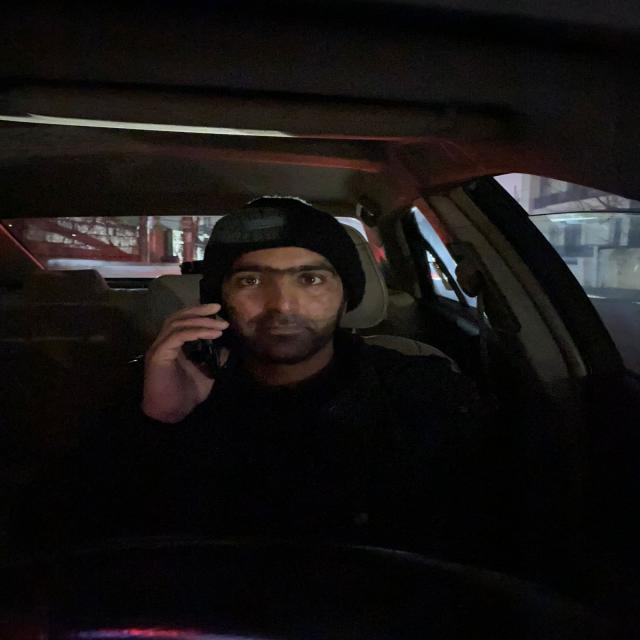mobile: (196, 275, 231, 380)
person: (206, 197, 366, 371)
